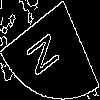N: (25, 24, 69, 81)
